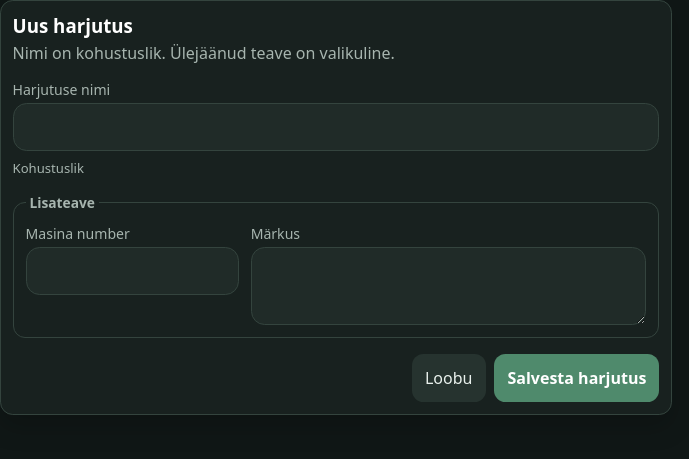
Test: ExerciseForm › shows an inline error and focuses the required name after an invalid save
The width and height of the screenshot is (689, 459).
Click the button "Salvesta harjutus". click: (577, 378)
box: [494,354,660,402]
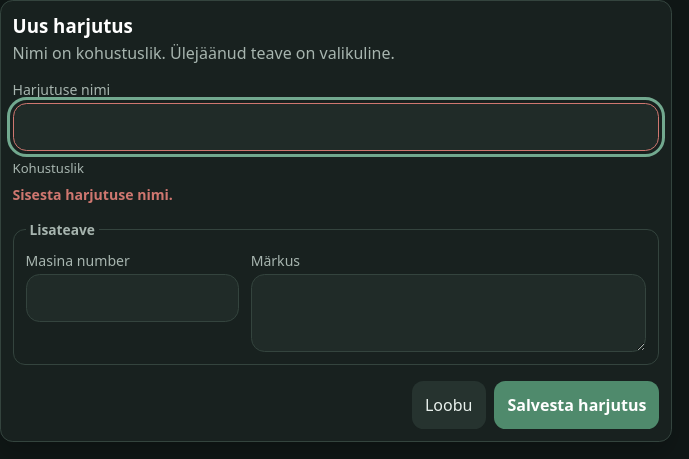
expect the text "Sisesta harjutuse nimi." is shown: met, box [12,184,173,204]
